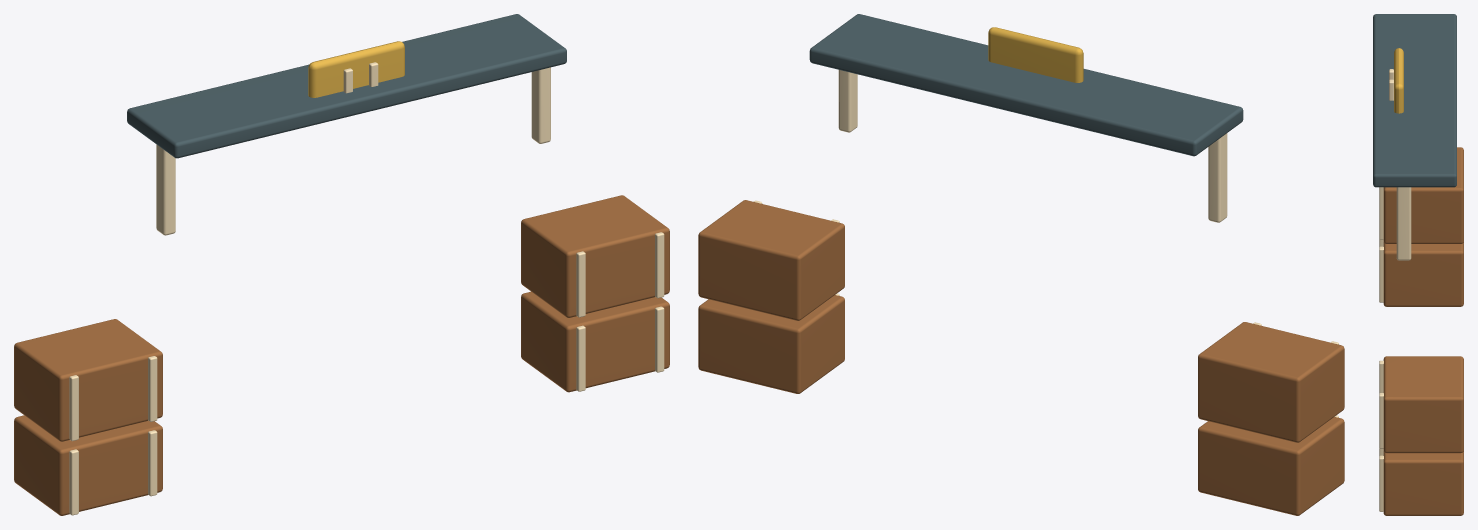
File: barn_level2.glb
3 renders of one model, left to right at view 1: azimuth 30°, elevation 25°; view 2: azimuth 150°, elevation 25°; view 3: azimuth 270°, elevation 25°, orthographic. The views are drawn at different scales.
Visible parts, largest first — view 1: Storage awning, Storage crate.003, Storage crate.001, Storage crate.002, Storage crate, Level plaque, Awning support, Awning support.001; view 2: Storage awning, Storage crate.001, Storage crate.003, Storage crate.002, Storage crate, Level plaque, Awning support, Awning support.001; view 3: Storage awning, Storage crate.003, Storage crate.002, Storage crate, Storage crate.001, Awning support.001, Level plaque, Crate strap.001, Crate strap.005, Crate strap.007, Crate strap.003, Crate strap.006.
Part boxes in pixels (box(x1,y1,x2,y2)): Storage awning: box(127, 14, 566, 158); Storage crate.003: box(521, 195, 669, 317); Storage crate.001: box(14, 319, 162, 441); Storage crate.002: box(521, 291, 669, 392); Storage crate: box(14, 415, 162, 515); Level plaque: box(308, 41, 404, 97); Awning support: box(156, 144, 175, 235); Awning support.001: box(531, 67, 550, 143); Storage awning: box(809, 14, 1243, 156); Storage crate.001: box(1198, 322, 1344, 442); Storage crate.003: box(698, 200, 844, 320); Storage crate.002: box(698, 295, 844, 393); Storage crate: box(1198, 417, 1344, 515); Level plaque: box(988, 27, 1083, 82); Awning support: box(1208, 133, 1227, 222); Awning support.001: box(838, 70, 857, 132); Storage awning: box(1373, 14, 1456, 187); Storage crate.003: box(1383, 356, 1463, 453); Storage crate.002: box(1383, 451, 1463, 515); Storage crate: box(1383, 241, 1463, 306); Storage crate.001: box(1383, 147, 1463, 243); Awning support.001: box(1396, 187, 1411, 260); Level plaque: box(1394, 48, 1403, 113); Crate strap.001: box(1379, 246, 1383, 302); Crate strap.005: box(1379, 455, 1383, 511); Crate strap.007: box(1379, 393, 1383, 448); Crate strap.003: box(1379, 187, 1383, 239); Crate strap.006: box(1379, 360, 1383, 392).
Size of the model in its own units: 4.82 by 2.9 by 0.735.
